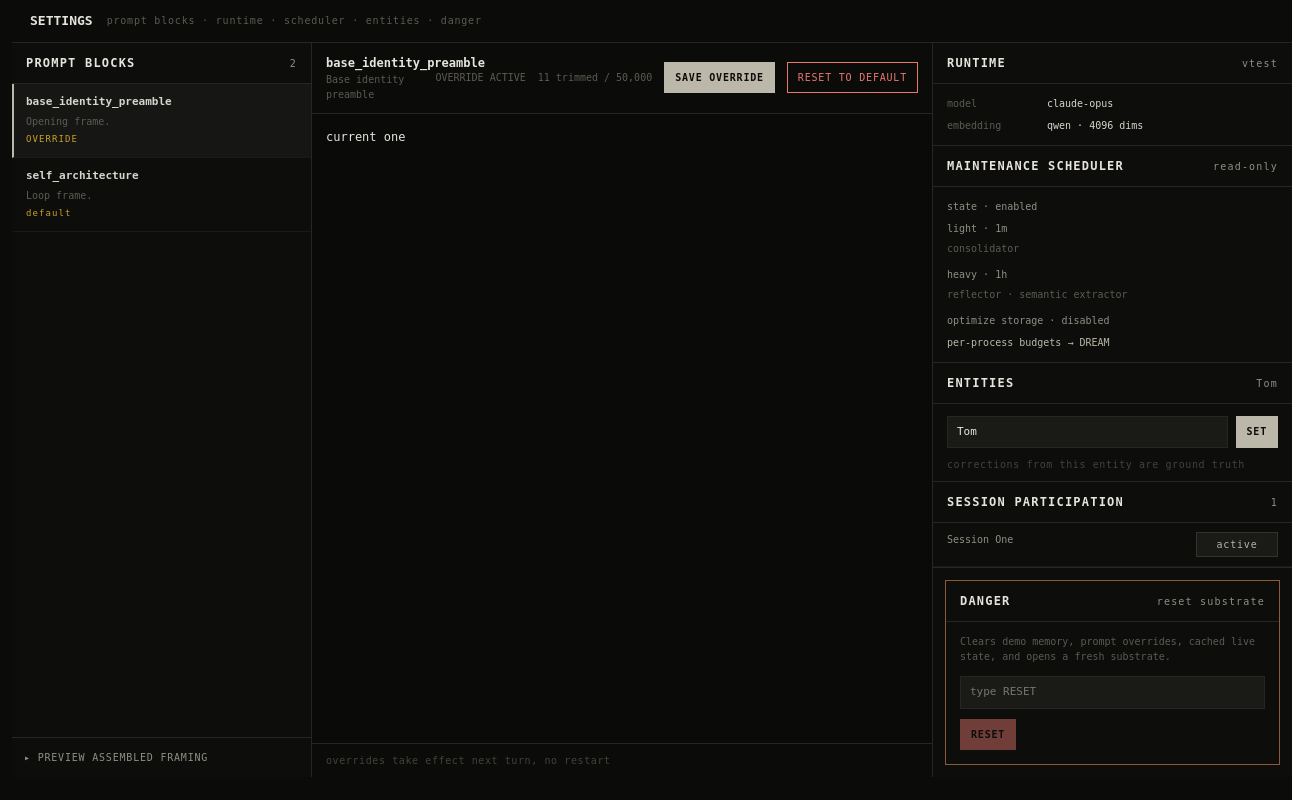
Test: Settings page › renders assembled framing preview from real segment offsets
Check: the text box showing "current one" is shown, box 312,114 -> 932,744
Click the button "▸ PREVIEW ASSEMBLED FRAMING" at (162, 756), box 12,736 -> 311,776
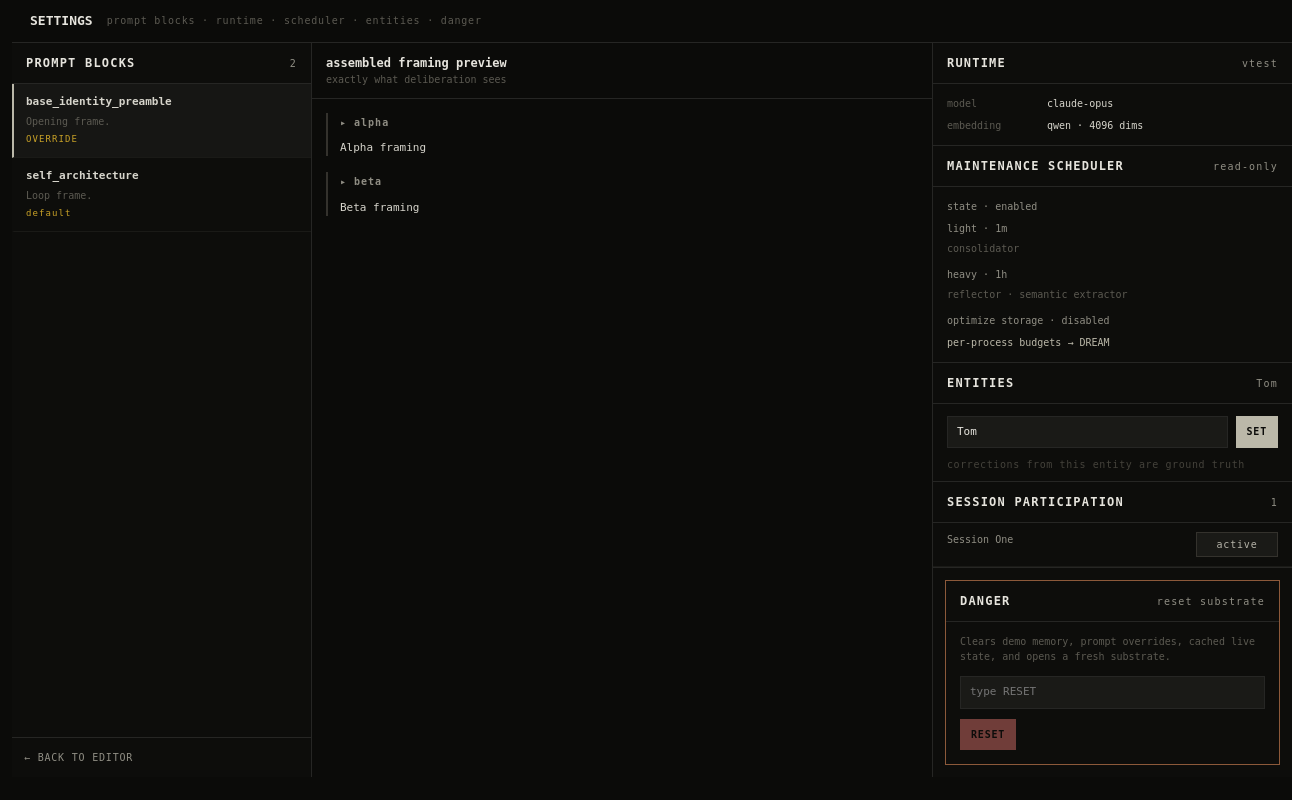
Check: the text "exactly what deliberation sees" is shown, box 326,74 -> 507,84
Check: the text "Alpha framing" is shown, box 340,141 -> 426,154
Check: the text "Beta framing" is shown, box 340,201 -> 420,214
